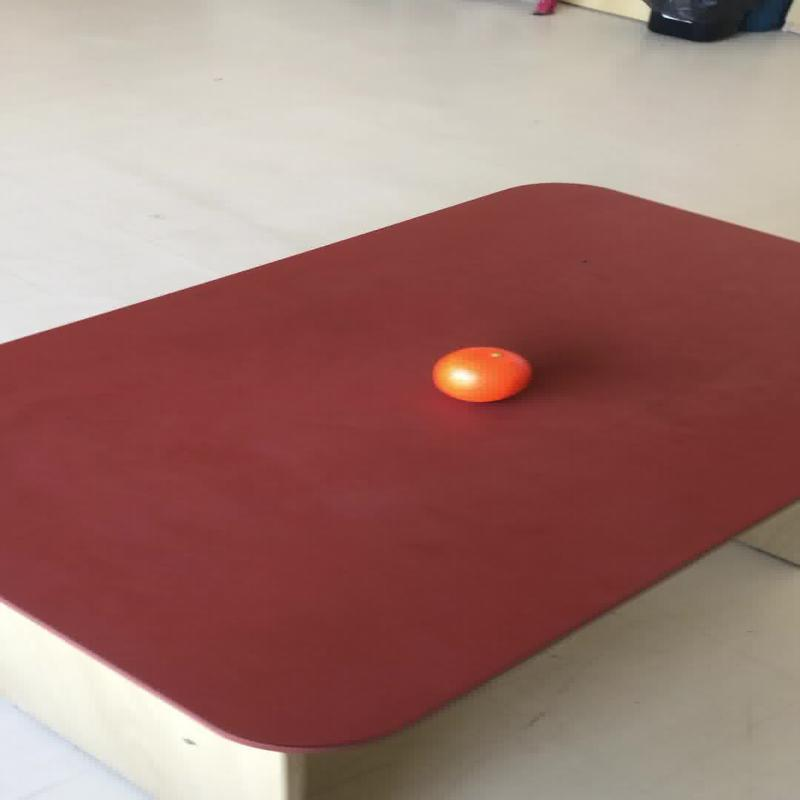orange: (429, 345, 531, 403)
